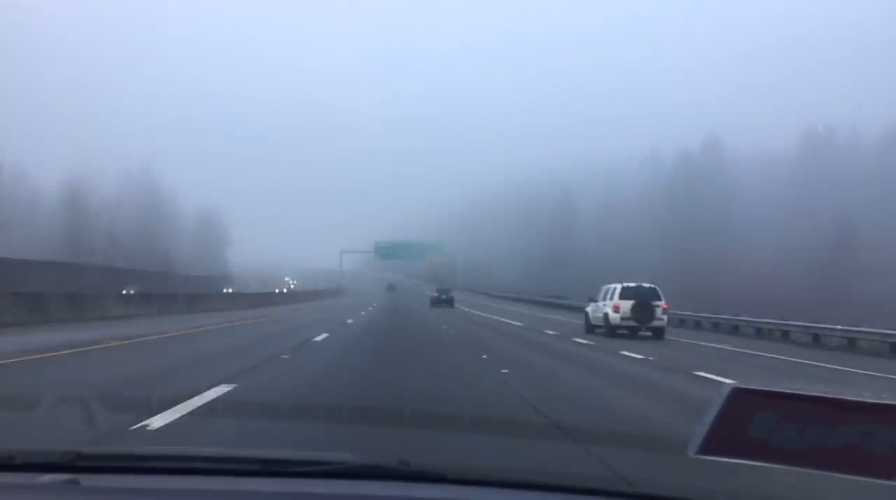car: (582, 280, 670, 341), (427, 287, 456, 309), (120, 285, 144, 299), (382, 277, 397, 292), (220, 285, 238, 297), (271, 286, 292, 295)
